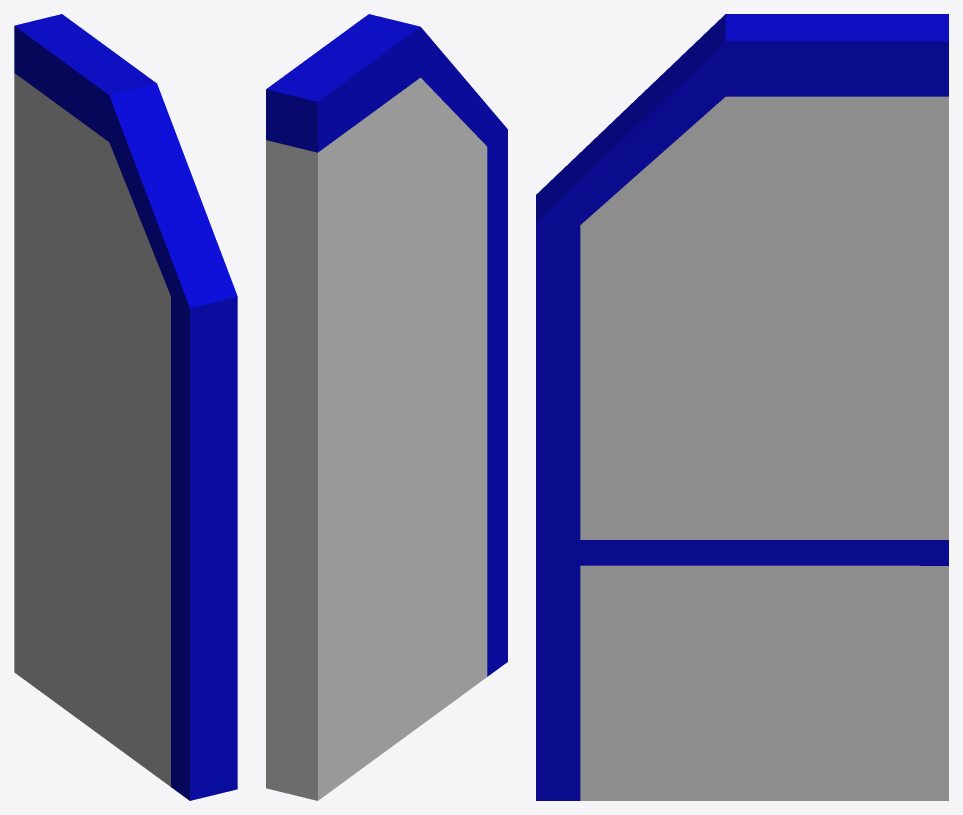
File: medieval-door.fbx
3 renders of one model, left to right at view 1: azimuth 30°, elevation 25°; view 2: azimuth 150°, elevation 25°; view 3: azimuth 270°, elevation 25°, orthographic. The views are drawn at different scales.
Visible parts, largest first — view 1: Cube; view 2: Cube; view 3: Cube.
Boxes of the visible parts, box(x1,y1,x2,y2) form: Cube: box(14, 14, 237, 800); Cube: box(266, 14, 507, 800); Cube: box(536, 14, 948, 800).
Size of the model in its own units: 68.5 by 885 by 436.
